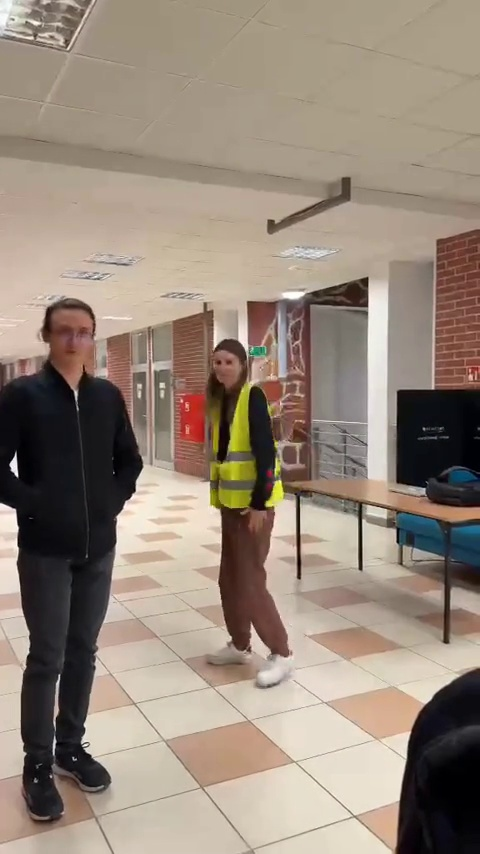no vest: (0, 292, 141, 827)
vest: (189, 335, 302, 694)
